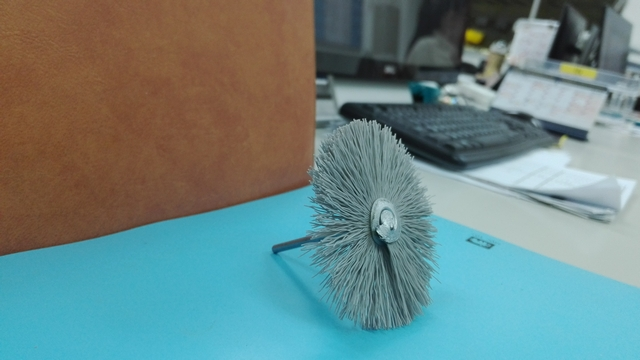TOOL: (227, 119, 451, 337), (258, 111, 433, 332)
